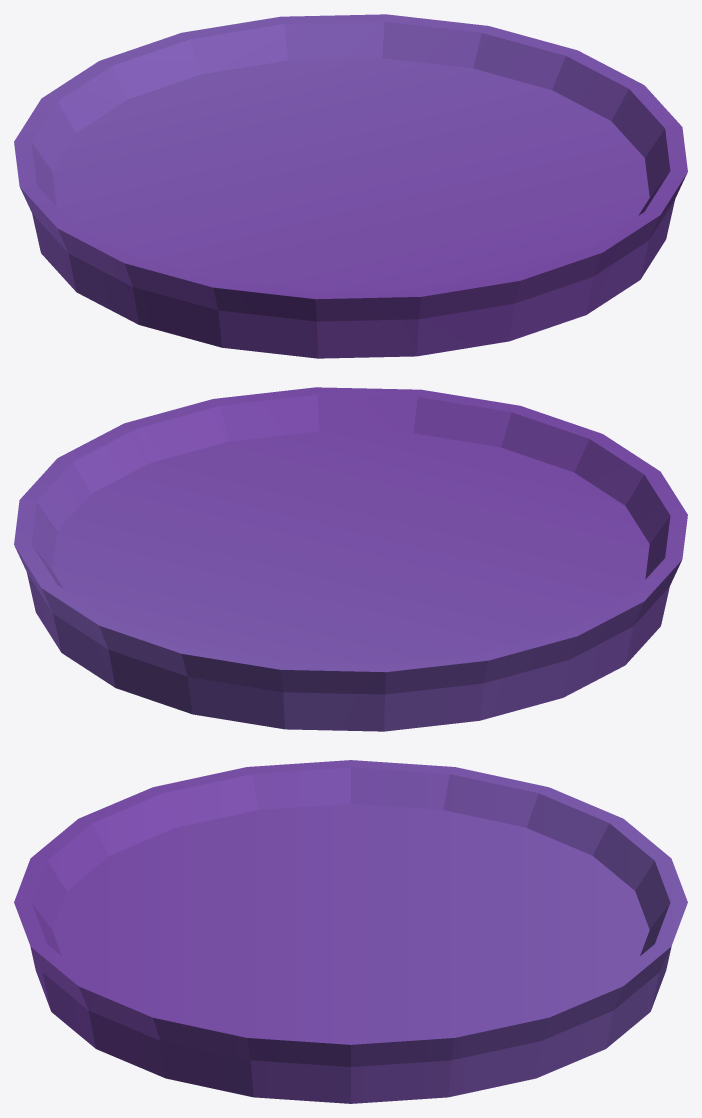
Rendered from PlantPot_25.fbx.
The picture shows the model from 3 angles, top to bottom: view 1: azimuth 30°, elevation 25°; view 2: azimuth 150°, elevation 25°; view 3: azimuth 270°, elevation 25°; orthographic projection.
Parts seen in each view (by area): view 1: PlantPot_25; view 2: PlantPot_25; view 3: PlantPot_25.
Part boxes in pixels (x1,y1,x2,y2): PlantPot_25: (14, 14, 687, 358); PlantPot_25: (14, 387, 687, 731); PlantPot_25: (14, 760, 687, 1103).
Size of the model in its own units: 18.98 by 2.12 by 18.98.
